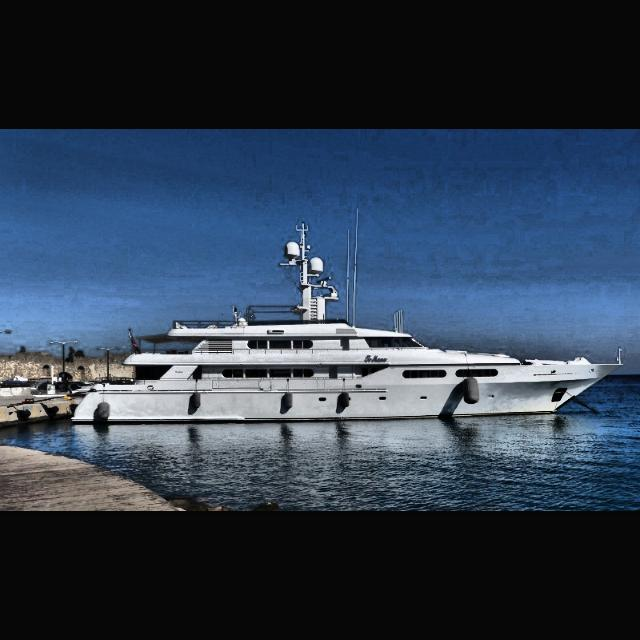yacht: (70, 240, 626, 426)
